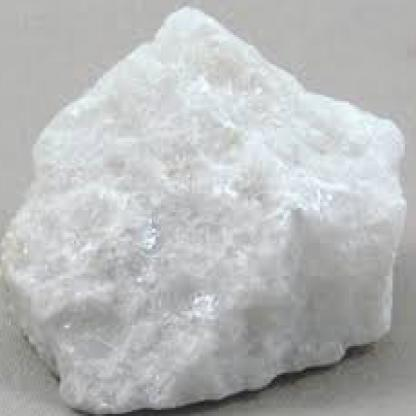Metamorphic_Marble: (0, 4, 409, 414)
